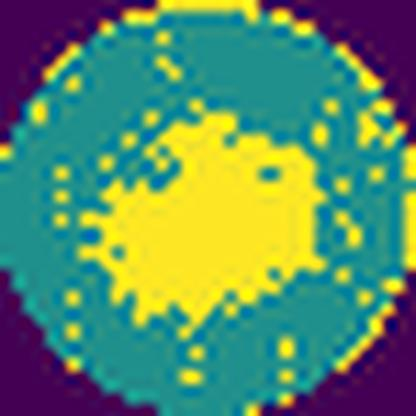Center: (77, 105, 330, 337)
